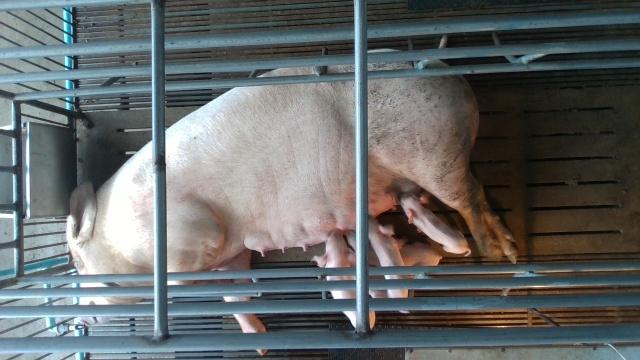piglet: (312, 228, 377, 330), (400, 192, 473, 259), (346, 231, 441, 281), (368, 218, 413, 313)
sow-sleep-lactate: (66, 48, 518, 335)
